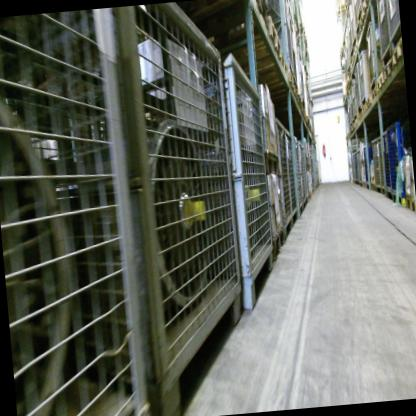pallet: (228, 14, 284, 71), (246, 52, 289, 86), (257, 67, 297, 99), (264, 148, 280, 177), (382, 52, 396, 85), (390, 34, 404, 65), (272, 232, 287, 259), (358, 9, 373, 29), (375, 68, 387, 93), (289, 88, 303, 108), (361, 0, 376, 18), (405, 195, 416, 215), (349, 124, 367, 134), (297, 106, 308, 122), (344, 75, 355, 89), (356, 26, 365, 42), (371, 82, 378, 101), (366, 95, 374, 111), (350, 50, 358, 64), (342, 0, 352, 11), (361, 179, 368, 191), (303, 163, 312, 172), (354, 43, 361, 54), (361, 103, 367, 115), (357, 113, 364, 123), (354, 118, 360, 128), (302, 37, 308, 47), (371, 184, 377, 193), (360, 159, 365, 167)
stillage: (104, 1, 258, 416), (0, 10, 155, 416), (130, 36, 280, 321), (273, 110, 297, 245), (260, 0, 293, 74), (385, 118, 414, 202), (285, 130, 301, 228), (366, 20, 386, 92), (375, 0, 395, 66), (380, 129, 396, 204), (357, 46, 375, 109), (292, 129, 304, 217), (385, 0, 402, 54), (287, 11, 299, 86), (297, 140, 307, 217), (376, 131, 388, 193), (371, 134, 383, 191), (296, 42, 306, 104), (300, 143, 309, 211), (353, 63, 363, 114), (349, 0, 359, 46), (363, 144, 372, 185), (350, 79, 359, 120), (346, 12, 354, 57), (344, 32, 352, 73), (310, 157, 318, 190), (349, 151, 356, 183), (357, 150, 363, 186), (349, 89, 355, 125), (355, 0, 365, 21), (347, 94, 353, 127), (354, 151, 360, 183), (352, 150, 358, 182), (343, 46, 349, 77), (315, 160, 320, 187), (361, 0, 368, 6)
